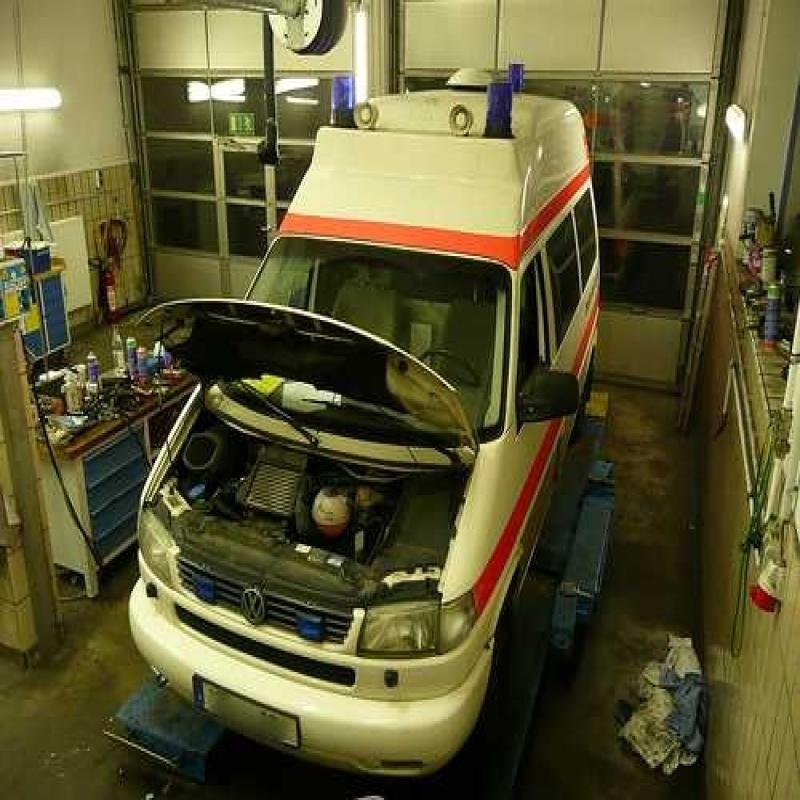AmbulanceSiren: (319, 63, 363, 141), (479, 80, 524, 148)
